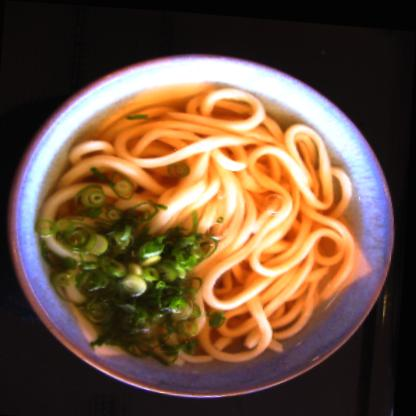Udon: (43, 86, 376, 367)
